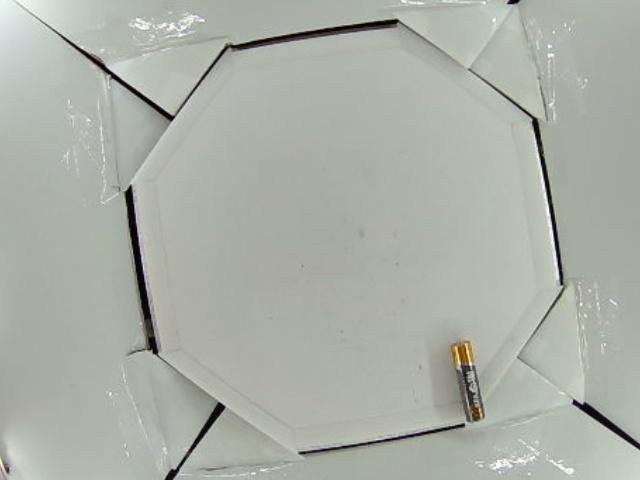Battery: (452, 340, 486, 423)
